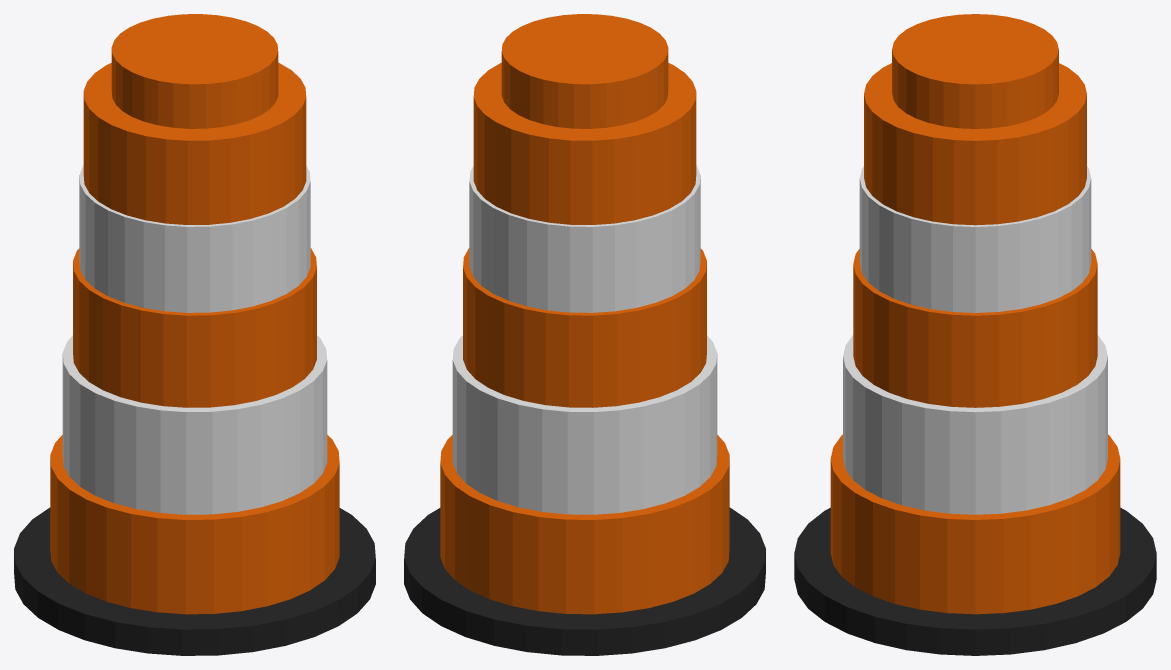
Rendered from Big_cone_01.fbx.
3 views of the same model, side by side, from view 1: azimuth 30°, elevation 25°; view 2: azimuth 150°, elevation 25°; view 3: azimuth 270°, elevation 25° (orthographic).
Parts seen in each view (by area): view 1: Base; view 2: Base; view 3: Base.
Boxes of the visible parts, x1=… form: Base: x1=14, y1=14, x2=375, y2=655; Base: x1=404, y1=14, x2=765, y2=655; Base: x1=794, y1=14, x2=1156, y2=655.
Bounding box in the file's own units: 138 × 223 × 138.
